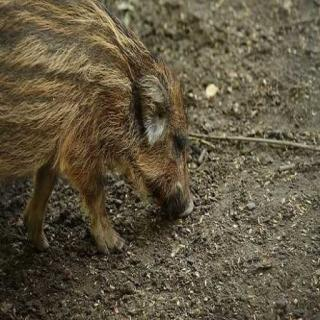Pig: (3, 0, 216, 279)
